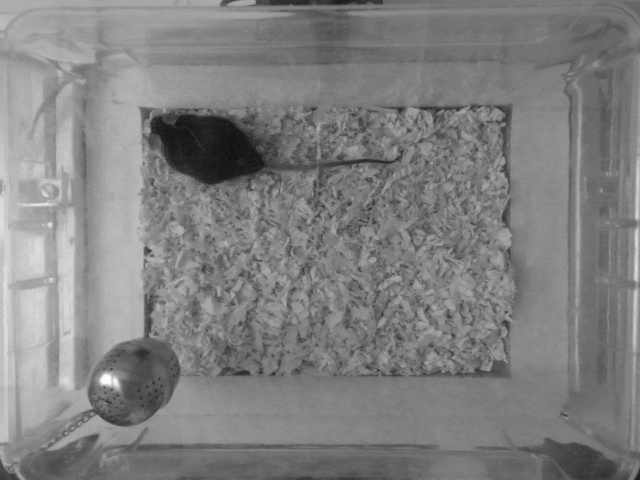mice: (148, 109, 402, 183)
